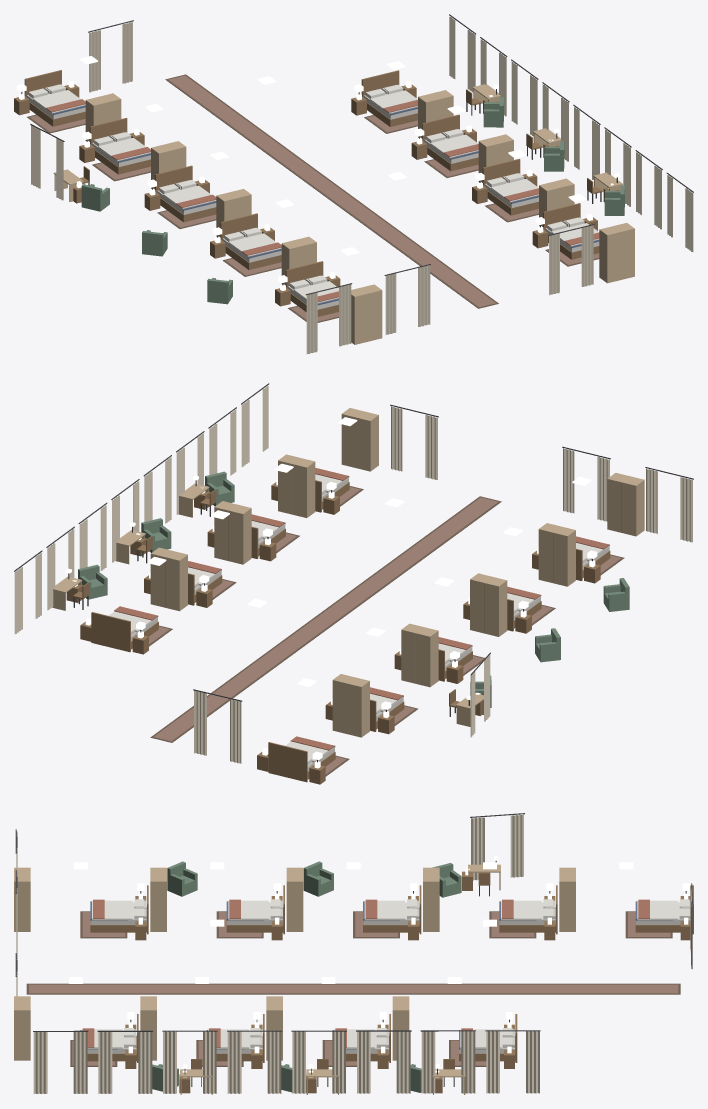
File: fine-s2.glb
3 renders of one model, top to bottom at view 1: azimuth 30°, elevation 25°; view 2: azimuth 150°, elevation 25°; view 3: azimuth 270°, elevation 25°, orthographic. The views are drawn at different scales.
Visible parts, largest first — view 1: soft-s2, dresser.012, dresser.017, bed-frame.015, bed-frame.016, bed-frame.014, bed-frame.013, bed-frame.011, bed-frame.010, bed-frame.009, bed-frame.017, dresser.013 (+13 smaller); view 2: soft-s2, dresser.014, dresser.016, dresser.017, dresser.013, dresser.015, dresser.010, dresser.011, dresser.012, dresser.009, bed-frame.013, bed-frame.009 (+5 smaller); view 3: soft-s2, dresser.015, dresser.012, dresser.013, dresser.014, dresser.016, dresser.017, bed-frame.016, lounge-chair.010, bed-frame.015, lounge-chair.011, bed-frame.014 (+10 smaller).
Boxes of the visible parts, box(x1,y1,x2,y2) form: soft-s2: box(17, 14, 693, 354); dresser.012: box(599, 223, 634, 283); dresser.017: box(351, 284, 382, 344); bed-frame.015: box(155, 165, 216, 222); bed-frame.016: box(220, 213, 281, 269); bed-frame.014: box(89, 118, 150, 174); bed-frame.013: box(24, 70, 85, 126); bed-frame.011: box(482, 159, 538, 215); bed-frame.010: box(422, 114, 478, 171); bed-frame.009: box(361, 70, 417, 126); bed-frame.017: box(285, 261, 338, 316); dresser.013: box(85, 93, 121, 141); soft-s2: box(14, 383, 693, 776); dresser.014: box(401, 623, 438, 687); dresser.016: box(538, 523, 575, 586); dresser.017: box(607, 473, 644, 536); dresser.013: box(332, 674, 369, 737); dresser.015: box(470, 573, 507, 636); dresser.010: box(214, 501, 251, 564); dresser.011: box(278, 454, 315, 517); dresser.012: box(341, 408, 378, 471); dresser.009: box(150, 547, 187, 611); bed-frame.013: box(268, 742, 335, 782); bed-frame.009: box(91, 612, 158, 652); soft-s2: box(15, 813, 692, 1093); dresser.015: box(286, 867, 303, 931); dresser.012: box(14, 996, 30, 1060); dresser.013: box(559, 867, 575, 931); dresser.014: box(423, 867, 439, 931); dresser.016: box(150, 867, 166, 931); dresser.017: box(14, 867, 30, 931); bed-frame.016: box(226, 885, 284, 934); lounge-chair.010: box(303, 861, 333, 896); bed-frame.015: box(363, 885, 421, 934); lounge-chair.011: box(167, 861, 197, 896); bed-frame.014: box(499, 885, 557, 934).
Bounding box in the file's own units: 18.63 × 2.67 × 24.54.
